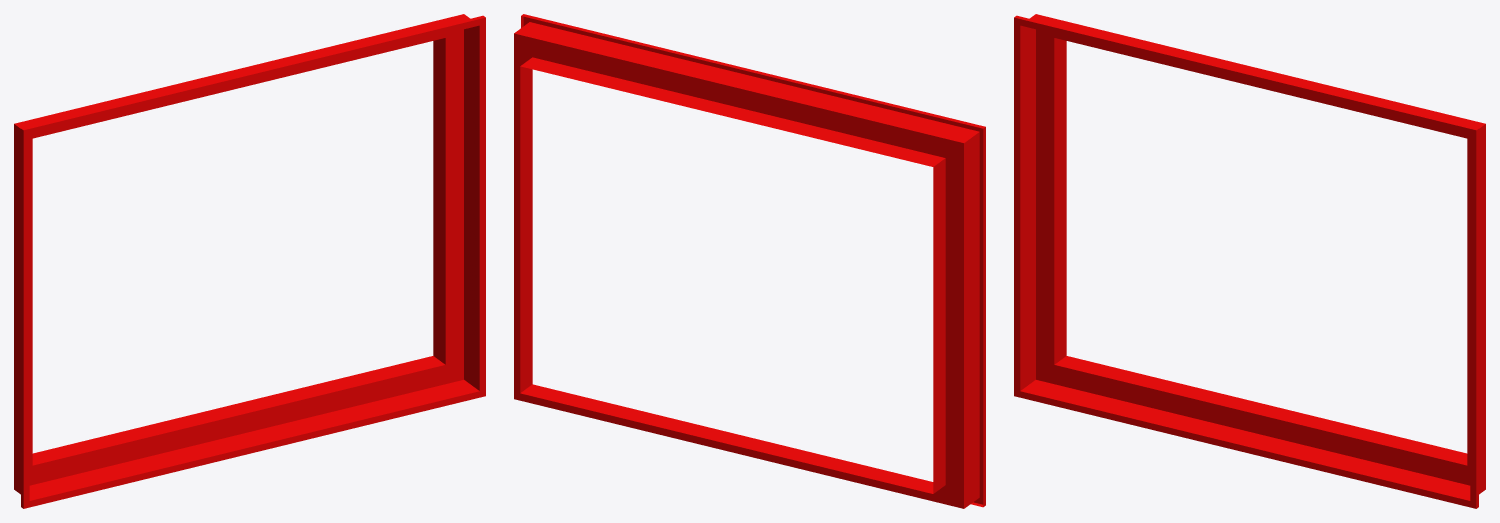
File: WindowFrame.fbx
3 renders of one model, left to right at view 1: azimuth 30°, elevation 25°; view 2: azimuth 150°, elevation 25°; view 3: azimuth 330°, elevation 25°, orthographic.
Visible parts, largest first — view 1: WindowFrame; view 2: WindowFrame; view 3: WindowFrame.
Part boxes in pixels (x1,y1,x2,y2): WindowFrame: (14, 14, 485, 508); WindowFrame: (514, 14, 985, 508); WindowFrame: (1014, 14, 1485, 508).
Size of the model in its own units: 150 by 117 by 15.76.
